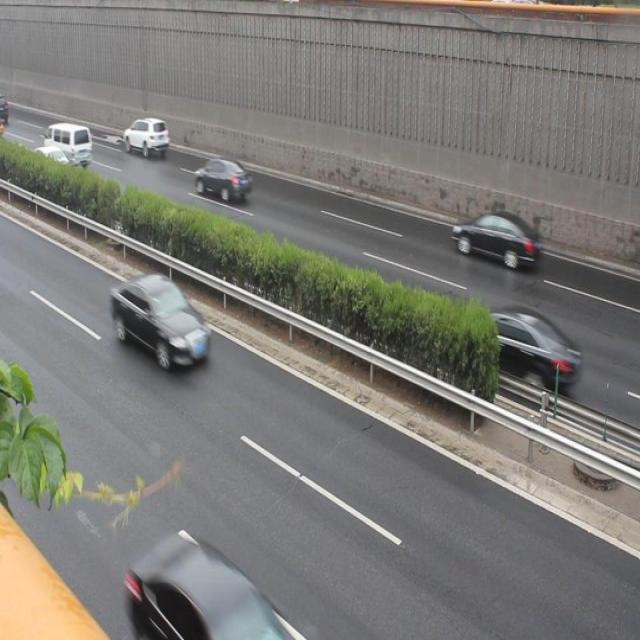car: (129, 535, 285, 640), (460, 302, 574, 394), (111, 272, 209, 369), (451, 209, 538, 275), (193, 156, 250, 208), (31, 144, 84, 188), (123, 118, 169, 161)
truck: (44, 120, 92, 170)
